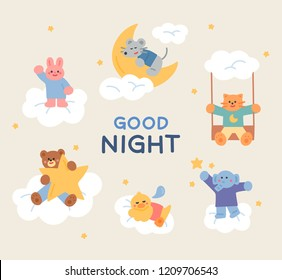animal: (34, 55, 80, 107), (30, 144, 70, 201), (123, 38, 175, 77)
bird: (126, 190, 175, 232)
cat: (204, 89, 261, 146)
cloud: (203, 50, 260, 74), (154, 23, 188, 46)
elephant: (202, 165, 248, 216)
